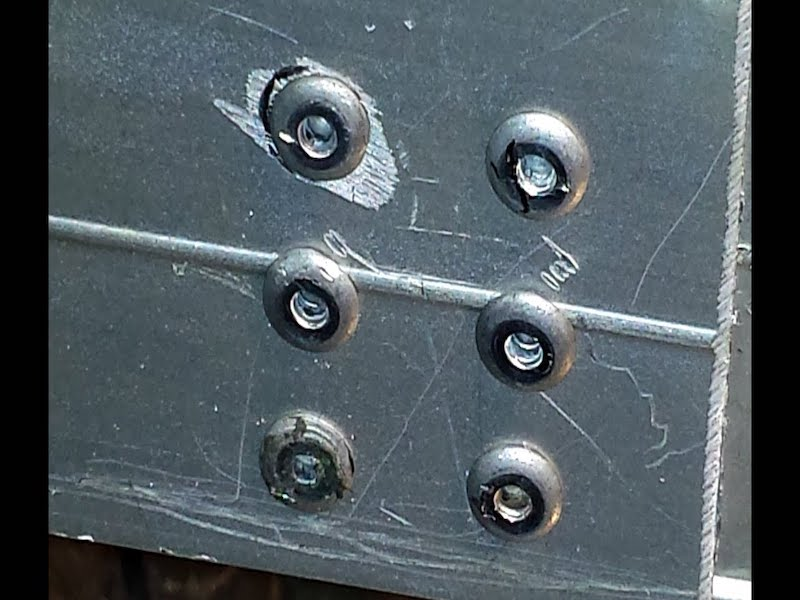rivet: (483, 108, 592, 225), (258, 245, 365, 357), (471, 287, 580, 396), (268, 73, 373, 185), (257, 410, 360, 516), (463, 441, 566, 546)
